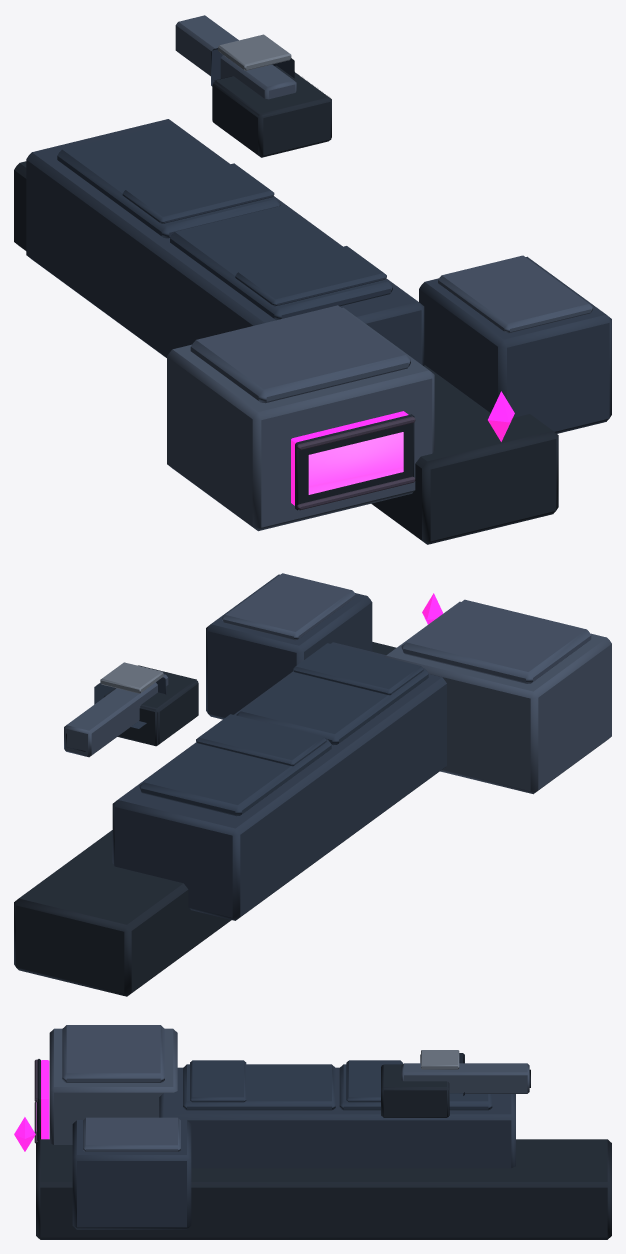
File: 01_korvette.glb
3 renders of one model, top to bottom at view 1: azimuth 30°, elevation 25°; view 2: azimuth 150°, elevation 25°; view 3: azimuth 270°, elevation 25°, orthographic. The views are drawn at different scales.
Visible parts, largest first — view 1: Hull, energy_2, weapon_1, FX_drive; view 2: Hull, weapon_1; view 3: Hull, weapon_1, energy_2, FX_drive.
Boxes of the visible parts, <box> form: Hull: <box>14,65,611,544</box>; energy_2: <box>291,411,415,510</box>; weapon_1: <box>175,15,296,99</box>; FX_drive: <box>488,391,514,441</box>; Hull: <box>14,573,611,996</box>; weapon_1: <box>64,662,168,757</box>; Hull: <box>36,1025,611,1239</box>; weapon_1: <box>401,1050,530,1096</box>; energy_2: <box>34,1059,49,1143</box>; FX_drive: <box>14,1117,35,1151</box>.
Size of the model in its own units: 3.14 by 2.05 by 6.23.
